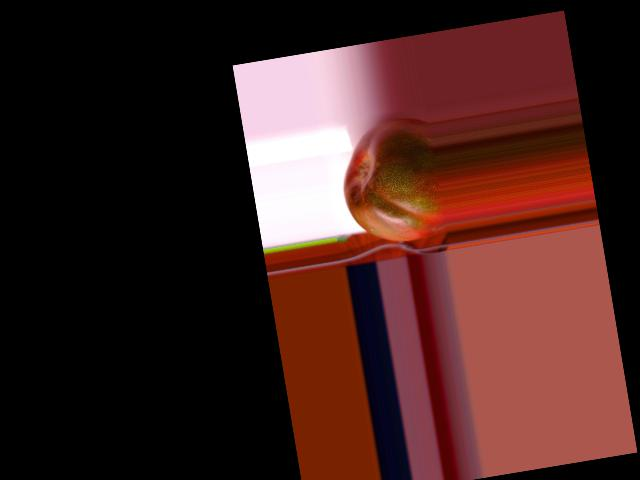tomato: (333, 114, 447, 250)
